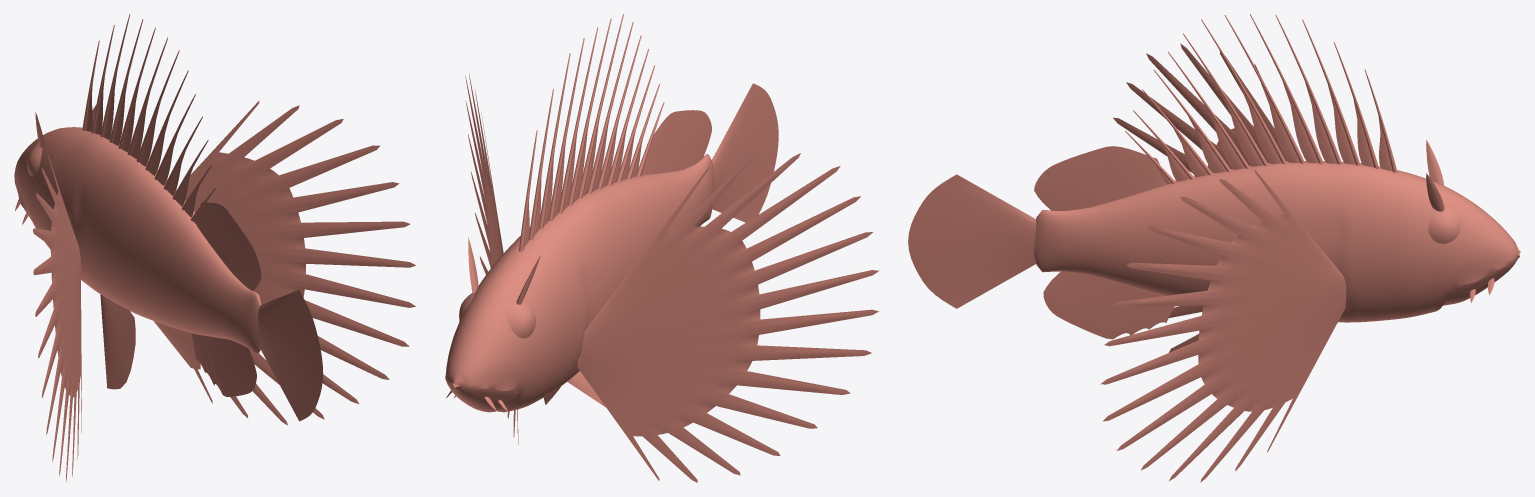
The model's file is lionfish.glb.
3 renders of one model, left to right at view 1: azimuth 30°, elevation 25°; view 2: azimuth 150°, elevation 25°; view 3: azimuth 270°, elevation 25°, orthographic. The views are drawn at different scales.
Visible parts, largest first — view 1: lionfish; view 2: lionfish; view 3: lionfish.
Part boxes in pixels (x1,y1,x2,y2): lionfish: [14, 14, 415, 481]; lionfish: [445, 14, 879, 482]; lionfish: [908, 14, 1520, 482].
Bounding box in the file's own units: 0.2542 × 0.2609 × 0.3489.
